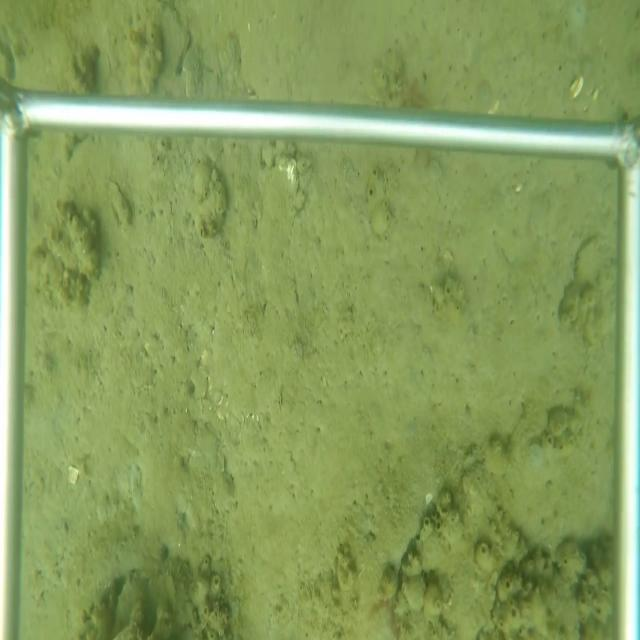Oyster-Indeterminate: (559, 231, 612, 322), (161, 0, 191, 75), (103, 174, 132, 231)
